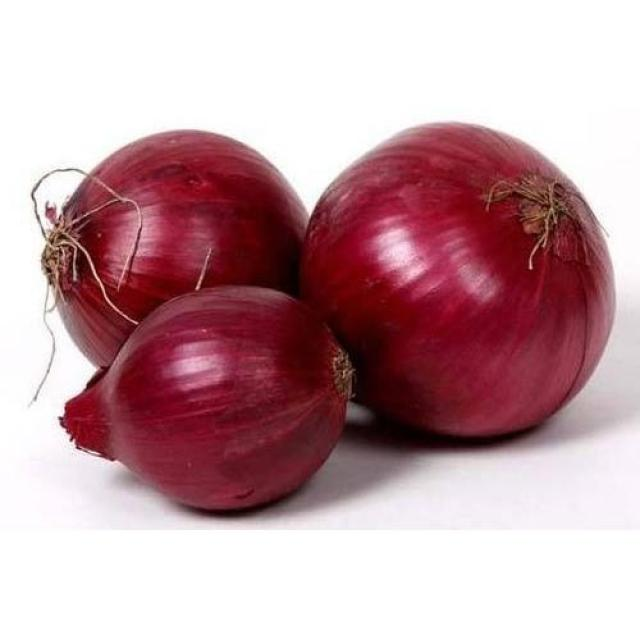onion: (286, 108, 612, 460), (48, 287, 356, 516), (39, 111, 313, 366)
